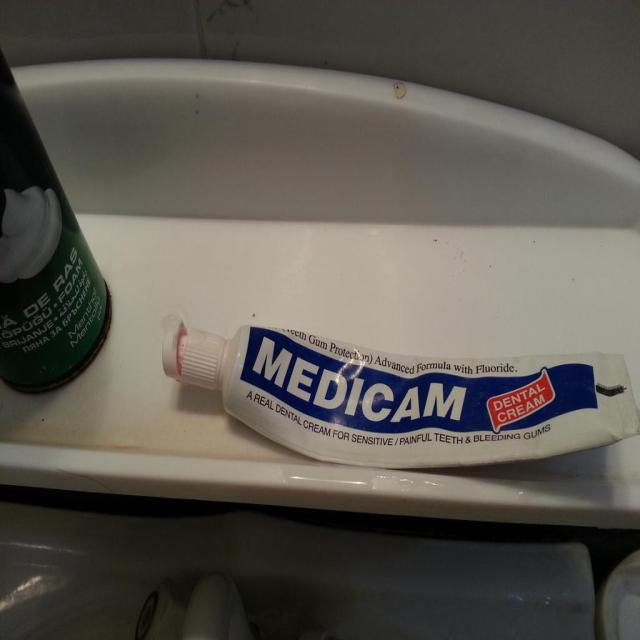Toothpaste: (154, 302, 639, 480)
